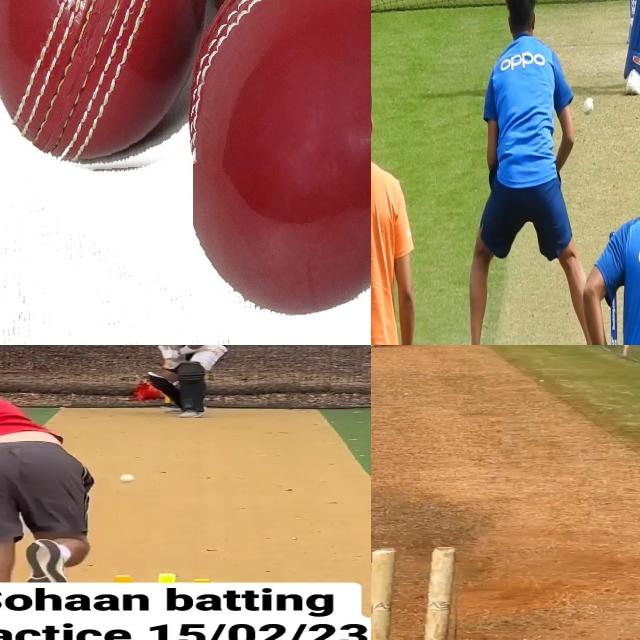Cricket ball: (192, 0, 371, 341), (0, 0, 214, 177), (584, 95, 596, 119), (119, 474, 136, 483)
Stumps: (371, 547, 462, 640)
